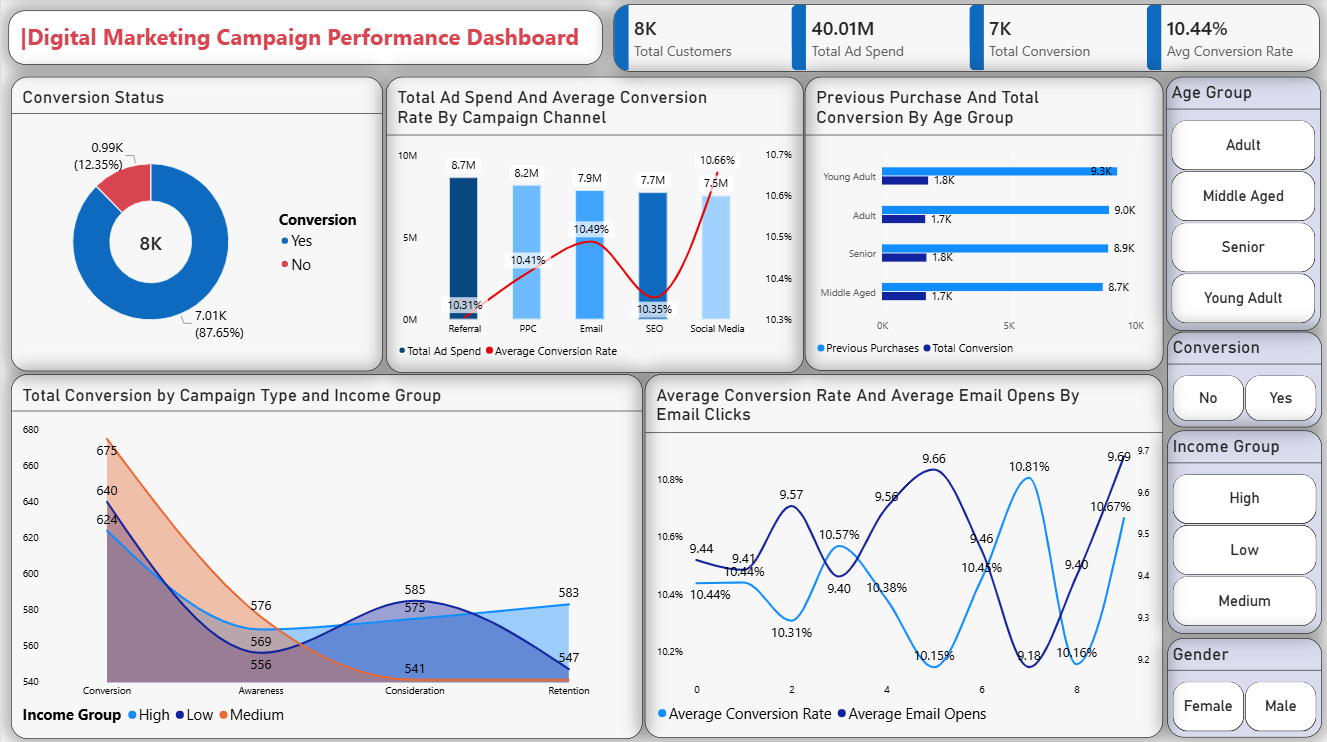

What the dashboard file says about the page in this screenshot:
{"tool":"powerbi","page":{"name":"Page 1","canvas":[1920,1080],"ordinal":0},"visuals":[{"type":"textbox","box":[6,0,588,66],"z":0},{"type":"textbox","box":[10,18,860,78],"z":1000},{"type":"donutChart","title":"Conversion Status","fields":{"Category":["table1.conversion"],"Y":["CountNonNull(table1.conversion)"]},"box":[14,114,538,426],"z":2000},{"type":"lineStackedColumnComboChart","title":"Total Ad Spend And Average Conversion Rate By Campaign Channel","fields":{"Category":["table1.campaign_channel"],"Y":["Sum(table1.ad_spend)"],"Y2":["Avg(table1.conversion_rate)"]},"box":[557.4,114,604.4,428.9],"z":3000},{"type":"advancedSlicerVisual","fields":{"Values":["table1.age_group"]},"box":[1686,114,224,368],"z":4000},{"type":"advancedSlicerVisual","fields":{"Values":["table1.conversion"]},"box":[1688,484,224,138],"z":5000},{"type":"advancedSlicerVisual","fields":{"Values":["table1.income_group"]},"box":[1688,626,224,294],"z":6000},{"type":"advancedSlicerVisual","fields":{"Values":["table1.gender"]},"box":[1688,926,224,144],"z":7000},{"type":"areaChart","fields":{"Category":["table1.campaign_type"],"Y":["table1.Total Conversion"],"Series":["table1.income_group"]},"box":[14,544,914,528],"z":8000},{"type":"cardVisual","fields":{"Data":["CountNonNull(table1.customer_id)","Sum(table1.ad_spend)","table1.Total Conversion","Avg(table1.conversion_rate)"]},"box":[887.5,8.8,1022.5,97.5],"z":9000},{"type":"lineChart","title":"Average Conversion Rate And Average Email Opens By Email Clicks","fields":{"Category":["table1.email_clicks"],"Y2":["Avg(table1.email_opens)"],"Y":["Avg(table1.conversion_rate)"]},"box":[932,544,750,526],"z":10000},{"type":"clusteredBarChart","title":"Previous Purchase And  Total Conversion By Age Group","fields":{"Category":["table1.age_group"],"Y":["Sum(table1.previous_purchase)","table1.Total Conversion"]},"box":[1163.6,114,519.4,425.3],"z":11000}]}

Visuals, with their boxes in screenshot pixels (x1, y1, x2, y2), scaled from the page's 1920x1080 canvas onto the 1327x742 screenshot:
textbox: 4/0/411/45
textbox: 7/12/601/66
"Conversion Status" donutChart: 10/78/382/371
"Total Ad Spend And Average Conversion Rate By Campaign Channel" lineStackedColumnComboChart: 385/78/803/373
advancedSlicerVisual - table1.age_group: 1165/78/1320/331
advancedSlicerVisual - table1.conversion: 1167/333/1321/427
advancedSlicerVisual - table1.income_group: 1167/430/1321/632
advancedSlicerVisual - table1.gender: 1167/636/1321/735
areaChart - table1.campaign_type x table1.Total Conversion: 10/374/641/737
cardVisual - CountNonNull(table1.customer_id) x Sum(table1.ad_spend): 613/6/1320/73
"Average Conversion Rate And Average Email Opens By Email Clicks" lineChart: 644/374/1163/735
"Previous Purchase And  Total Conversion By Age Group" clusteredBarChart: 804/78/1163/371
